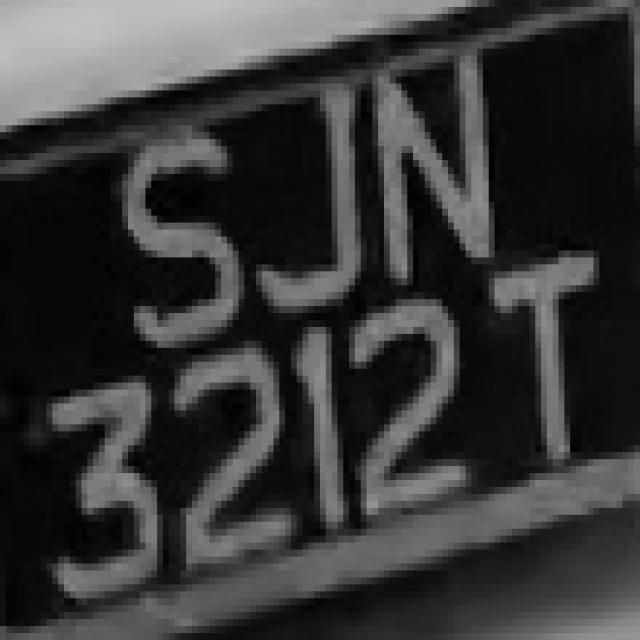1: (268, 285, 343, 564)
2: (337, 285, 483, 550), (157, 341, 291, 570)
3: (17, 348, 169, 577)
J: (221, 83, 361, 327)
N: (343, 63, 506, 299)
S: (110, 90, 244, 376)
T: (466, 257, 600, 501)
